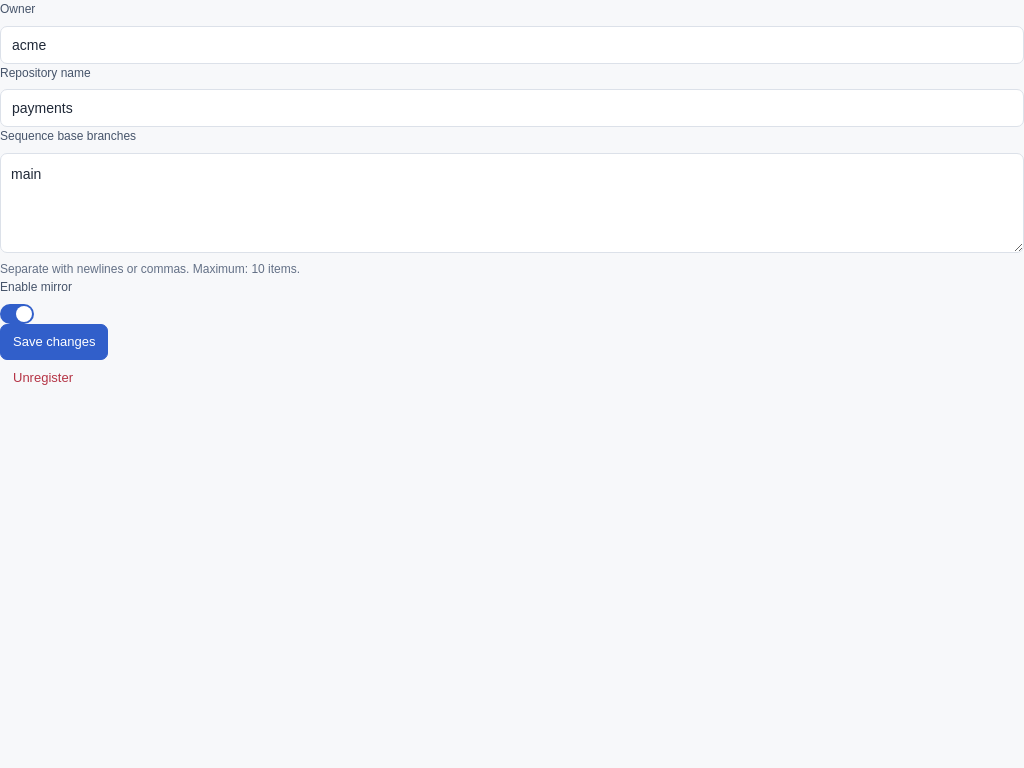
Test case: RepositoryRegistrationForm (C-043) › **QA-A002-03: 해제 문구가 "삭제"를 쓰지 않는다**
This screenshot has width=1024, height=768.
What coordinates should you click on to do the following:
click the button with test id "registration-unregister-open"
I would click on:
 (43, 378)
Its box is top-left (0, 360), bottom-right (86, 396).
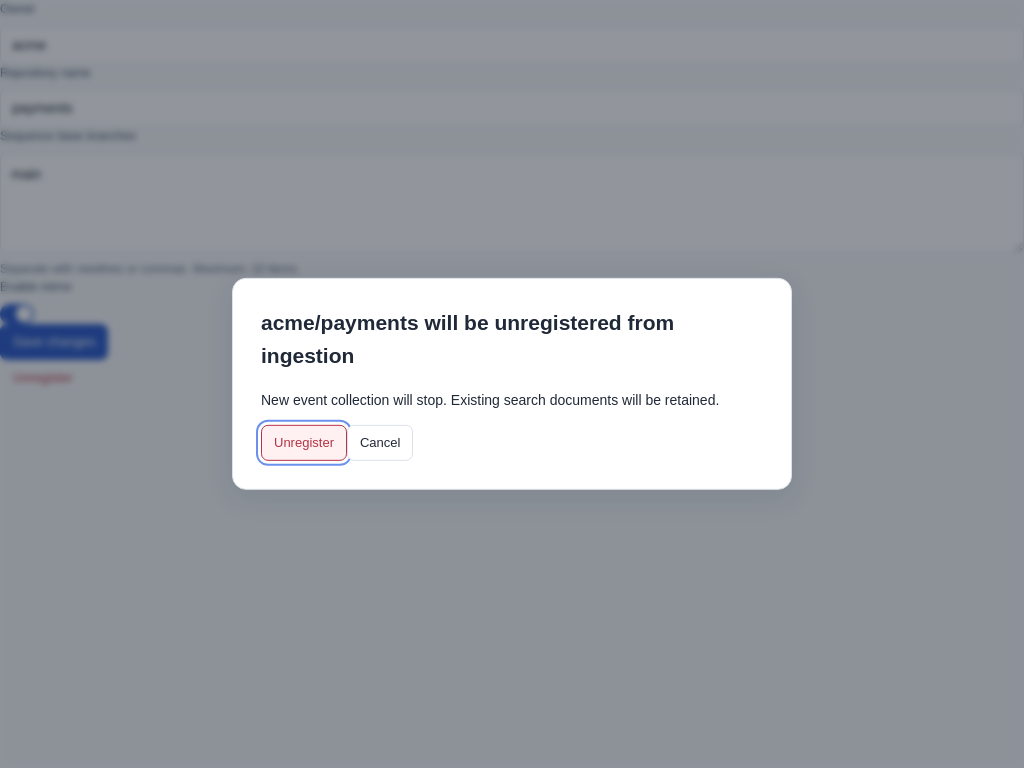
expect the text with test id "unregister-message" reads "New event collection will stop. Existing search documents will be retained.": met, box top-left (261, 391), bottom-right (719, 407)
expect the text with test id "unregister-message" shows "documents will be retained": met, box top-left (261, 391), bottom-right (719, 407)
